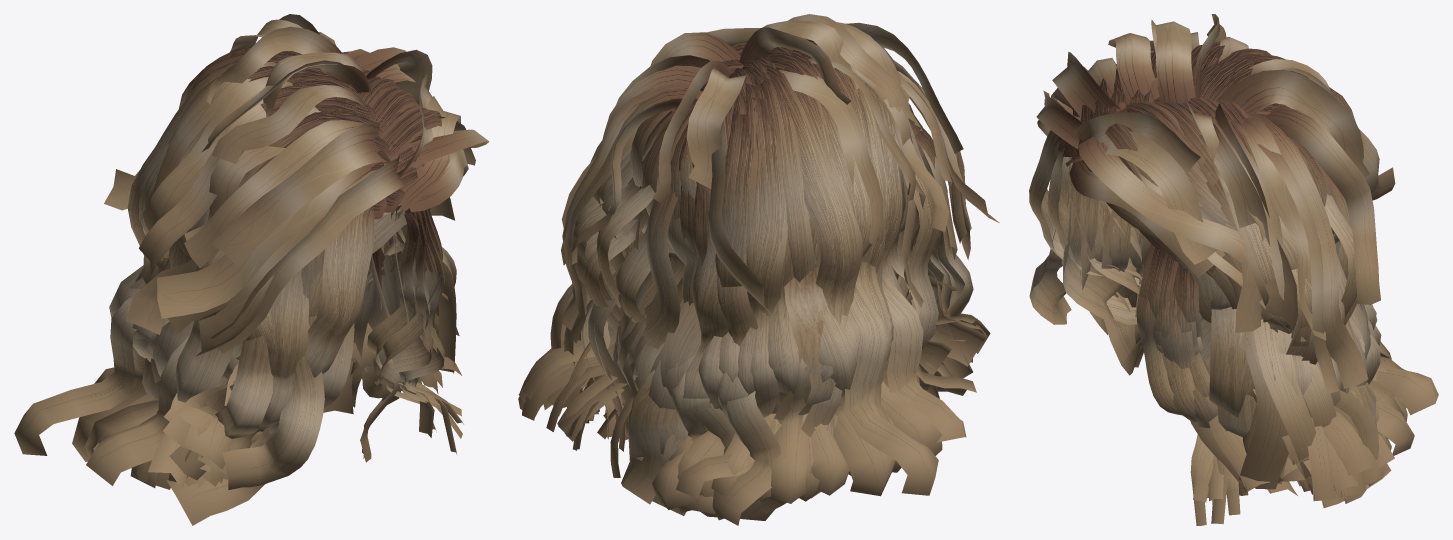
Rendered from Hair16.fbx.
3 renders of one model, left to right at view 1: azimuth 30°, elevation 25°; view 2: azimuth 150°, elevation 25°; view 3: azimuth 270°, elevation 25°, orthographic. The views are drawn at different scales.
Parts seen in each view (by area): view 1: haircard vol7 hair02; view 2: haircard vol7 hair02; view 3: haircard vol7 hair02.
Boxes of the visible parts, bbox=[...] form: haircard vol7 hair02: bbox=[14, 14, 489, 525]; haircard vol7 hair02: bbox=[518, 14, 999, 525]; haircard vol7 hair02: bbox=[1029, 14, 1438, 525].
Size of the model in its own units: 36.63 by 37.31 by 31.23.
1 material, 1 textured.
